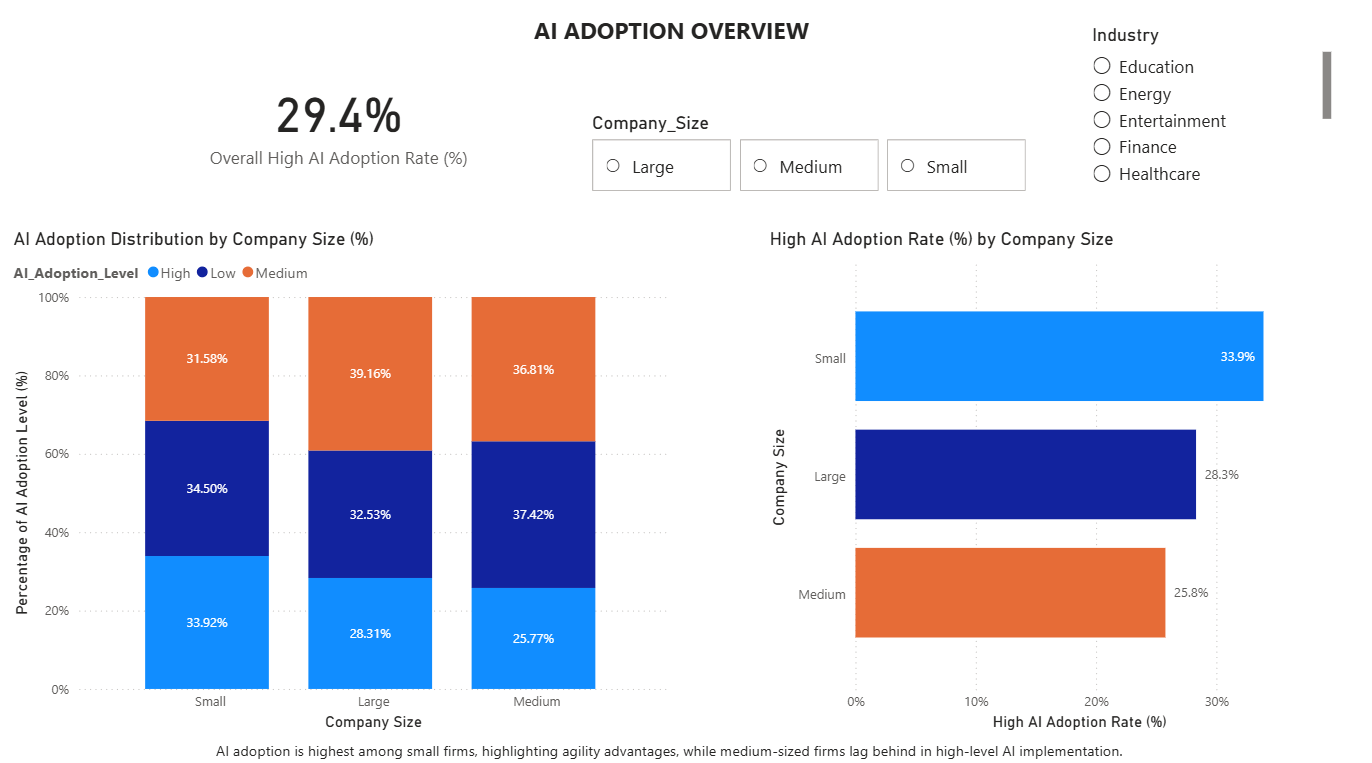

The dashboard page shown, as its layout file describes it:
{"tool":"powerbi","page":{"name":"AI Adoption Rate","canvas":[1280,720],"ordinal":0},"visuals":[{"type":"card","fields":{"Values":["ai_job_market_insights.High Adoption (%)"]},"box":[157.5,28.9,322.2,180.6],"z":0},{"type":"hundredPercentStackedColumnChart","title":"AI Adoption Distribution by Company Size (%)","fields":{"Category":["ai_job_market_insights.Company_Size"],"Series":["ai_job_market_insights.AI_Adoption_Level"],"Y":["CountNonNull(ai_job_market_insights.AI_Adoption_Level)"]},"box":[10.1,218.2,618.5,472.5],"z":1000},{"type":"clusteredBarChart","title":"High AI Adoption Rate (%) by Company Size","fields":{"Y":["ai_job_market_insights.High Adoption (%)"],"Category":["ai_job_market_insights.Company_Size"]},"box":[714,218.3,518.8,472.6],"z":2000},{"type":"advancedSlicerVisual","fields":{"Values":["ai_job_market_insights.Company_Size"]},"box":[549.1,110.1,414.5,79.5],"z":3000},{"type":"listSlicer","fields":{"Values":["ai_job_market_insights.Industry"]},"box":[1013.7,29.3,232.3,160.2],"z":4000},{"type":"textbox","box":[435.3,14.7,385.2,41.6],"z":5000},{"type":"textbox","box":[199,690.9,882.2,29.5],"z":6000}]}

Visuals, with their boxes in screenshot pixels (x1, y1, x2, y2), scaled from the page's 1280x720 canvas onto the 1372x763 screenshot:
card - ai_job_market_insights.High Adoption (%): crop(169, 31, 514, 222)
"AI Adoption Distribution by Company Size (%)" hundredPercentStackedColumnChart: crop(11, 231, 674, 732)
"High AI Adoption Rate (%) by Company Size" clusteredBarChart: crop(765, 231, 1321, 732)
advancedSlicerVisual - ai_job_market_insights.Company_Size: crop(589, 117, 1033, 201)
listSlicer - ai_job_market_insights.Industry: crop(1087, 31, 1336, 201)
textbox: crop(467, 16, 879, 60)
textbox: crop(213, 732, 1159, 762)
